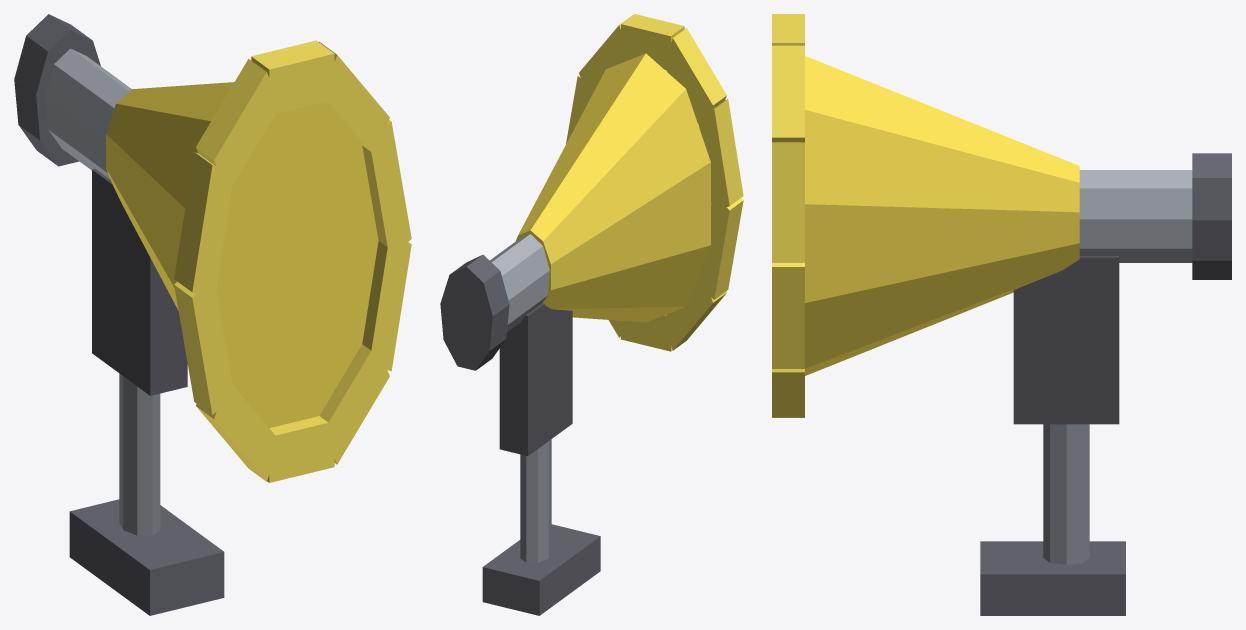
The model's file is horn.glb.
3 views of the same model, side by side, from view 1: azimuth 30°, elevation 25°; view 2: azimuth 150°, elevation 25°; view 3: azimuth 270°, elevation 25° (orthographic). The views are drawn at different scales.
Parts seen in each view (by area): view 1: horn; view 2: horn; view 3: horn.
Part boxes in pixels (x1,y1,x2,y2): horn: (14, 14, 411, 615); horn: (440, 14, 743, 615); horn: (772, 14, 1231, 615).
Bounding box in the file's own units: 0.25 × 0.685 × 0.5.
